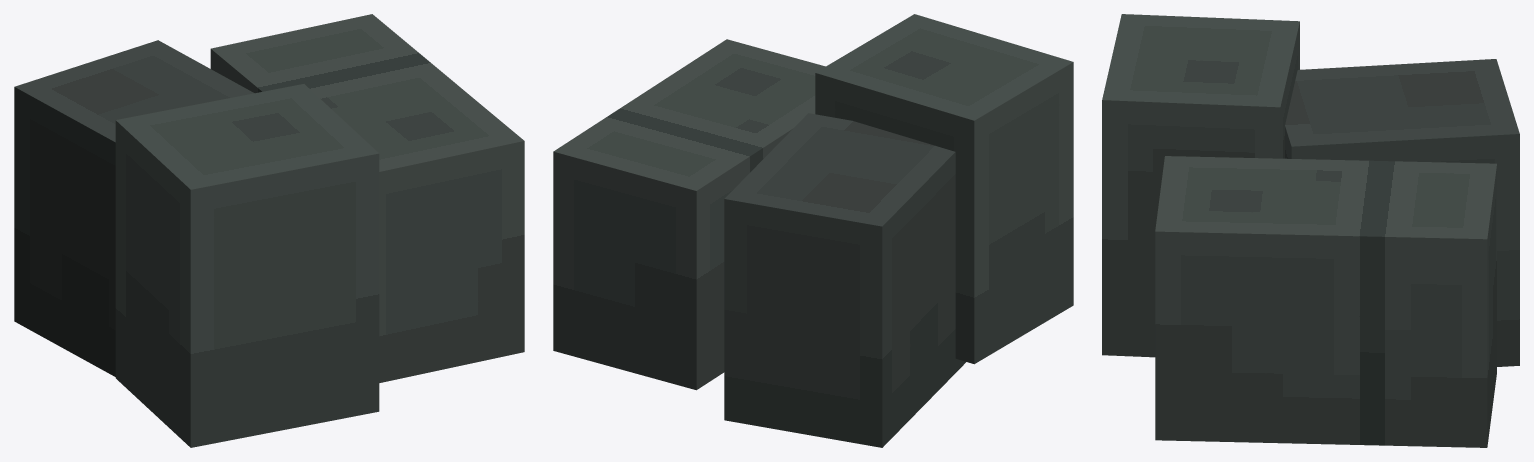
File: deco_1x1x1_hedgehaunted.gltf
3 renders of one model, left to right at view 1: azimuth 30°, elevation 25°; view 2: azimuth 150°, elevation 25°; view 3: azimuth 270°, elevation 25°, orthographic. The views are drawn at different scales.
Parts seen in each view (by area): view 1: A2-Local, A1-Local, A3-Local; view 2: A3-Local, A1-Local, A2-Local; view 3: A1-Local, A2-Local, A3-Local.
Boxes of the visible parts, x1,y1,x2,y2 form: A2-Local: (115,84,379,447); A1-Local: (210,14,524,382); A3-Local: (14,40,254,376); A3-Local: (724,113,965,447); A1-Local: (553,39,825,390); A2-Local: (815,14,1073,364); A1-Local: (1155,156,1496,447); A2-Local: (1102,14,1299,357); A3-Local: (1285,59,1519,366).
Bounding box in the file's own units: 16.35 × 11.66 × 16.33.
3 materials, 3 textured.
